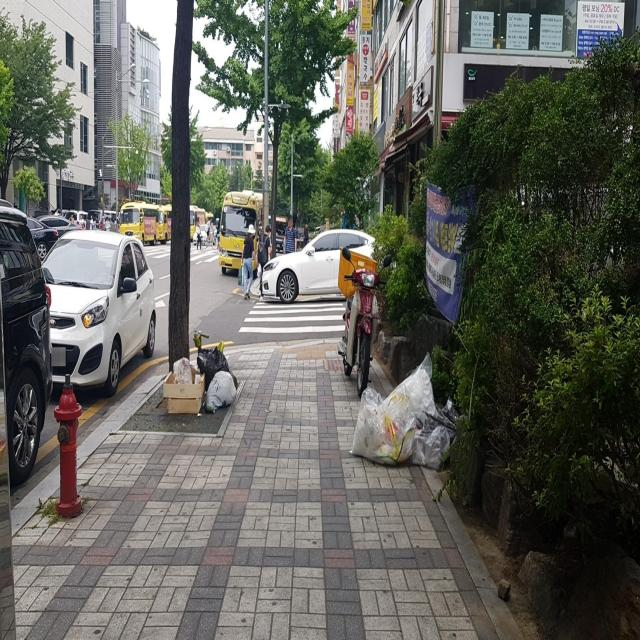횡단보도: (238, 302, 346, 333)
